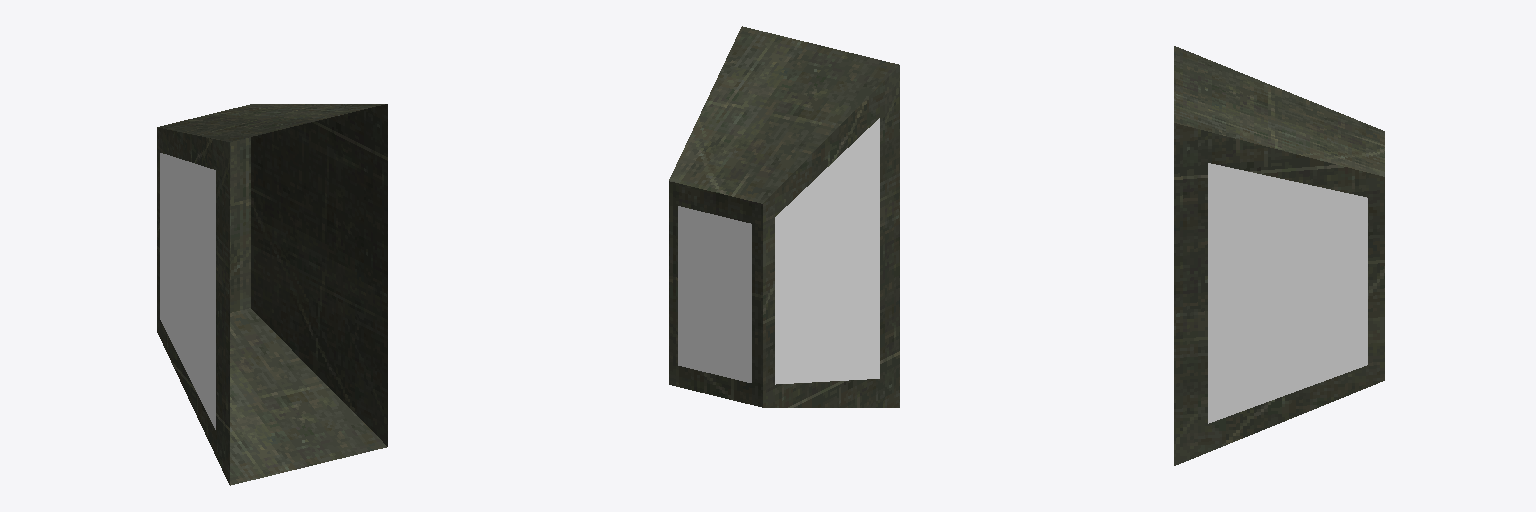
3 views of the same model, side by side, from view 1: azimuth 30°, elevation 25°; view 2: azimuth 150°, elevation 25°; view 3: azimuth 270°, elevation 25° (orthographic).
Visible parts, largest first — view 1: 0_0, 0_1; view 2: 0_0, 0_1; view 3: 0_0, 0_1.
Part boxes in pixels (bbox=[...]): 0_0: bbox=[157, 104, 387, 485]; 0_1: bbox=[160, 153, 215, 429]; 0_0: bbox=[669, 26, 899, 407]; 0_1: bbox=[678, 118, 879, 384]; 0_0: bbox=[1174, 46, 1384, 465]; 0_1: bbox=[1208, 163, 1367, 423].
Size of the model in its own units: 0.1629 by 0.3376 by 0.1885.
2 materials, 1 textured.